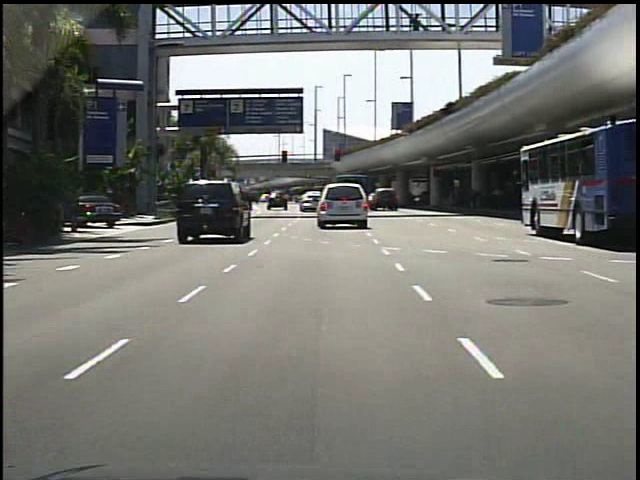person: (405, 13, 423, 43)
